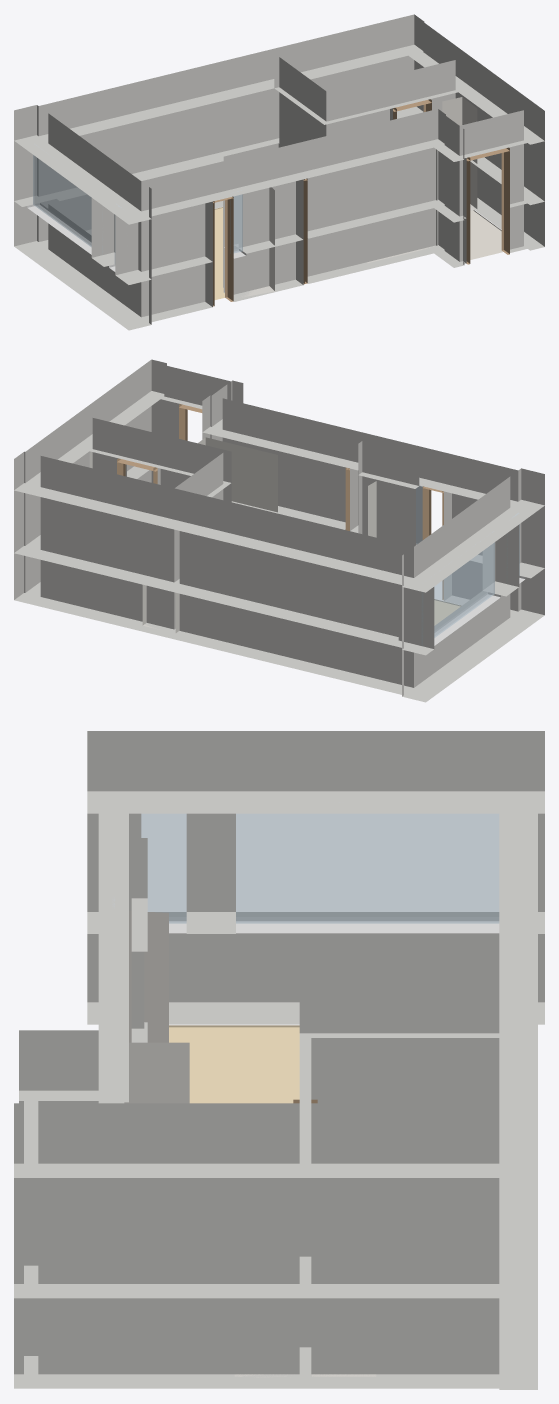
3 renders of one model, top to bottom at view 1: azimuth 30°, elevation 25°; view 2: azimuth 150°, elevation 25°; view 3: azimuth 270°, elevation 25°, orthographic. The views are drawn at different scales.
Parts seen in each view (by area): view 1: walls, window_2, door_0, floor_1_Entry, door_5, furniture_0_closet, sill_2, floor_0_Kitchen, furniture_2_closet, window_3, door_6; view 2: walls, window_2, furniture_1_closet, sill_2, furniture_2_closet, door_5; view 3: walls, window_2, floor_0_Kitchen, sill_2, window_4, furniture_1_closet, furniture_2_closet.
Boxes of the visible parts, x1=… form: walls: x1=14, y1=14, x2=544, y2=330; window_2: x1=33, y1=145, x2=102, y2=248; door_0: x1=466, y1=147, x2=509, y2=264; floor_1_Entry: x1=470, y1=210, x2=502, y2=259; door_5: x1=213, y1=196, x2=233, y2=306; furniture_0_closet: x1=442, y1=97, x2=477, y2=210; sill_2: x1=27, y1=203, x2=91, y2=254; floor_0_Kitchen: x1=214, y1=207, x2=224, y2=299; furniture_2_closet: x1=223, y1=187, x2=274, y2=297; window_3: x1=230, y1=190, x2=242, y2=253; door_6: x1=303, y1=178, x2=307, y2=284; walls: x1=14, y1=359, x2=544, y2=702; window_2: x1=422, y1=531, x2=494, y2=645; furniture_1_closet: x1=198, y1=437, x2=277, y2=512; sill_2: x1=434, y1=592, x2=500, y2=645; furniture_2_closet: x1=368, y1=481, x2=422, y2=544; door_5: x1=422, y1=486, x2=443, y2=599; walls: x1=14, y1=731, x2=544, y2=1389; window_2: x1=236, y1=813, x2=499, y2=923; floor_0_Kitchen: x1=169, y1=1025, x2=299, y2=1103; sill_2: x1=236, y1=917, x2=499, y2=933; window_4: x1=141, y1=813, x2=186, y2=923; furniture_1_closet: x1=124, y1=1042, x2=189, y2=1103; furniture_2_closet: x1=129, y1=911, x2=168, y2=1042.
Bounding box in the file's own units: 8.28 × 2.72 × 4.79.
